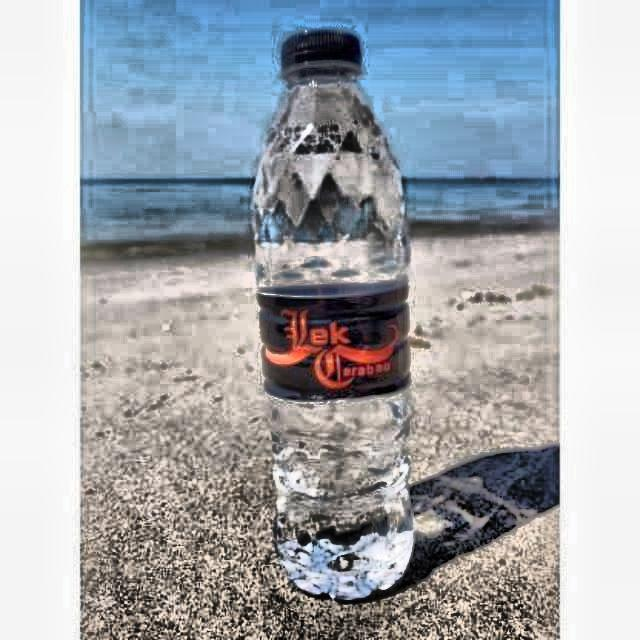Bottles: (226, 17, 434, 614)
